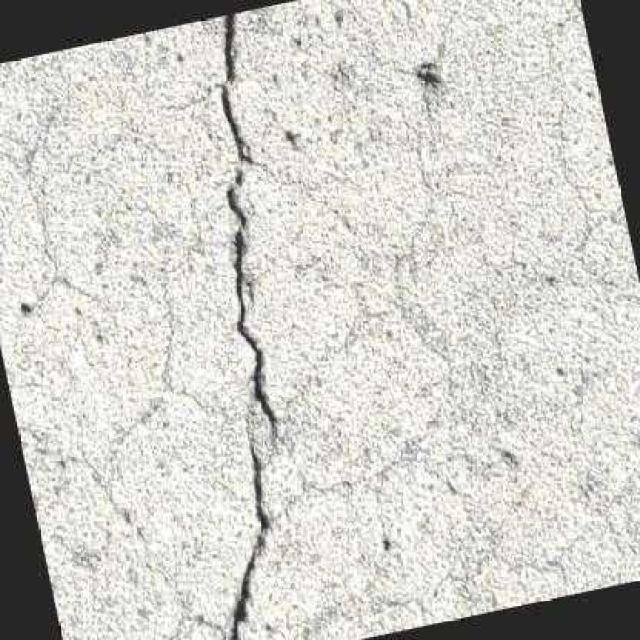D00: (218, 88, 276, 434), (227, 441, 267, 640), (220, 11, 236, 82)
